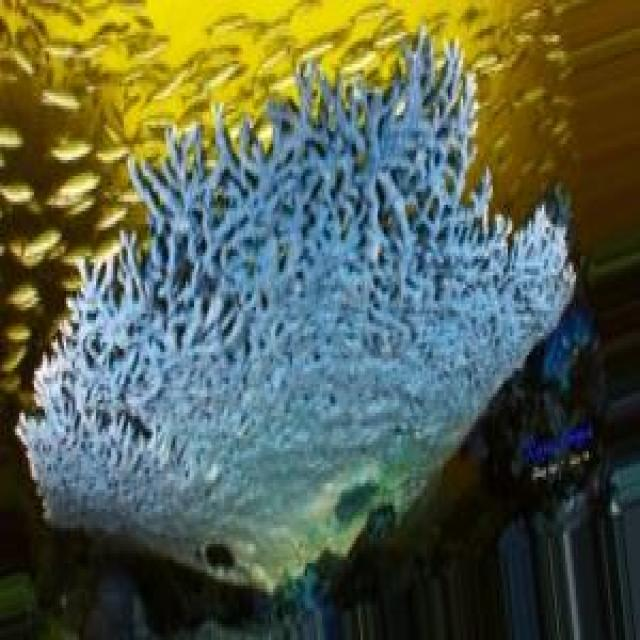Bleached: (20, 43, 577, 593)
